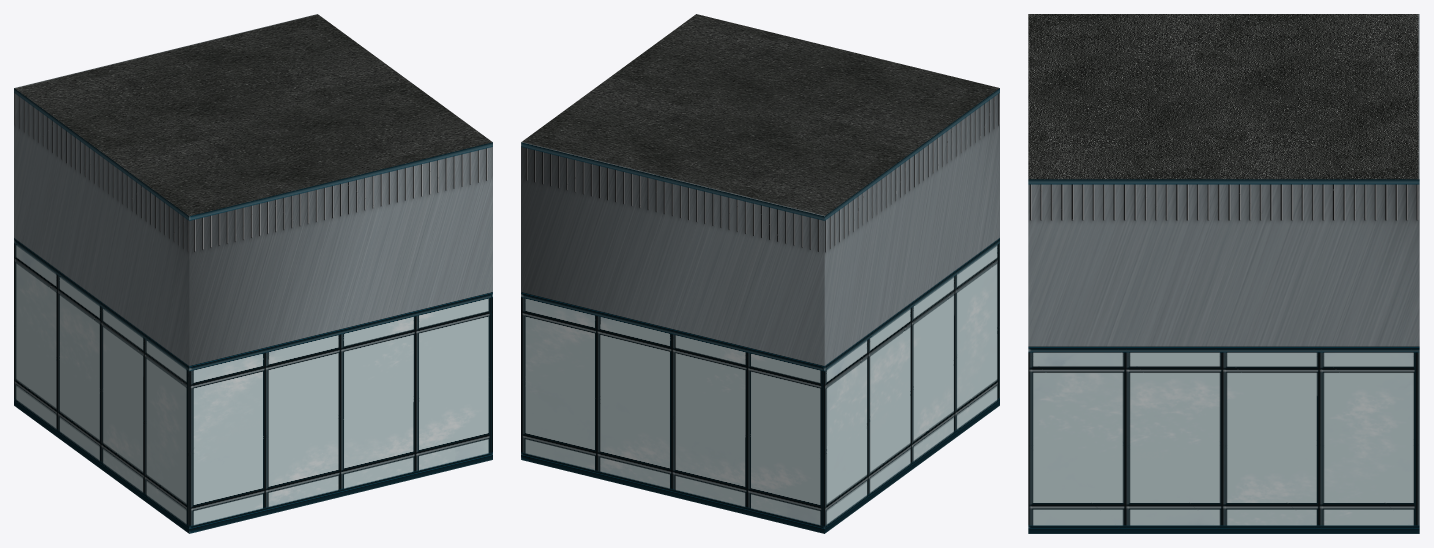
File: Building_Middle_03.dae
3 renders of one model, left to right at view 1: azimuth 30°, elevation 25°; view 2: azimuth 150°, elevation 25°; view 3: azimuth 270°, elevation 25°, orthographic. The views are drawn at different scales.
Parts seen in each view (by area): view 1: Building_Middle_03; view 2: Building_Middle_03; view 3: Building_Middle_03.
Part boxes in pixels (left/top/right/bottom): Building_Middle_03: left=14, top=14, right=492, bottom=533; Building_Middle_03: left=521, top=14, right=999, bottom=533; Building_Middle_03: left=1028, top=14, right=1419, bottom=533.
Bounding box in the file's own units: 45.04 × 45.04 × 45.04.
